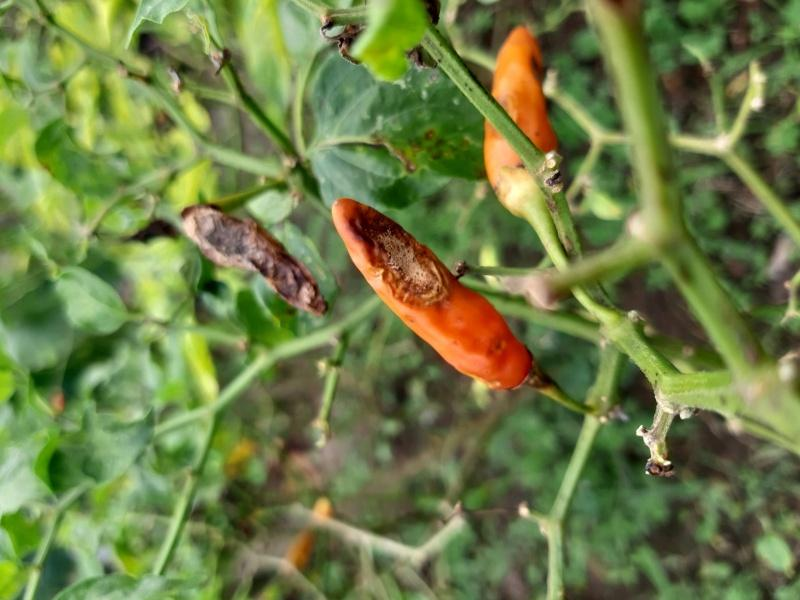antraknosa: (333, 199, 532, 382), (186, 208, 330, 316), (482, 25, 562, 188)
